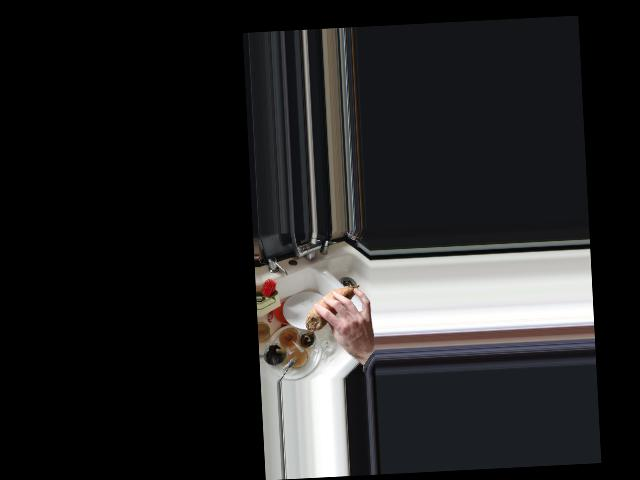sweet_potato: (305, 285, 362, 331)
